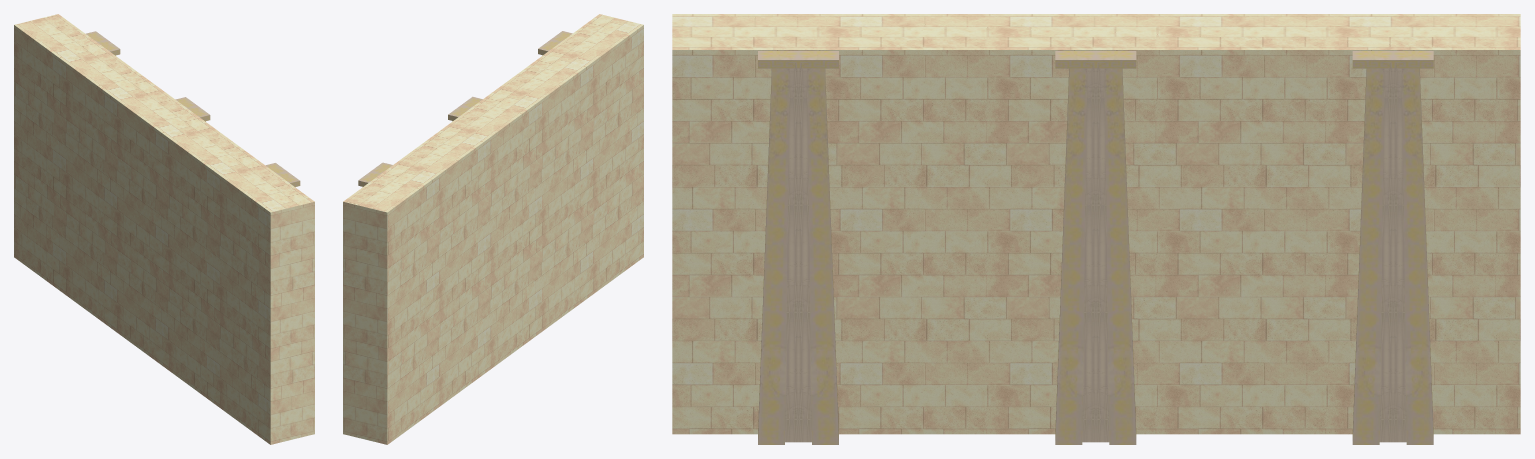
File: SM_wall_10x20.glb
The picture shows the model from 3 angles, left to right: view 1: azimuth 30°, elevation 25°; view 2: azimuth 150°, elevation 25°; view 3: azimuth 270°, elevation 25°; orthographic projection. The views are drawn at different scales.
Parts seen in each view (by area): view 1: SM_wall_10x20; view 2: SM_wall_10x20; view 3: SM_wall_10x20.
Boxes of the visible parts, x1,y1,x2,y2 form: SM_wall_10x20: (14, 14, 314, 444); SM_wall_10x20: (343, 14, 643, 444); SM_wall_10x20: (672, 14, 1520, 444).
Size of the model in its own units: 2.66 by 10 by 20.
2 materials, 2 textured.
